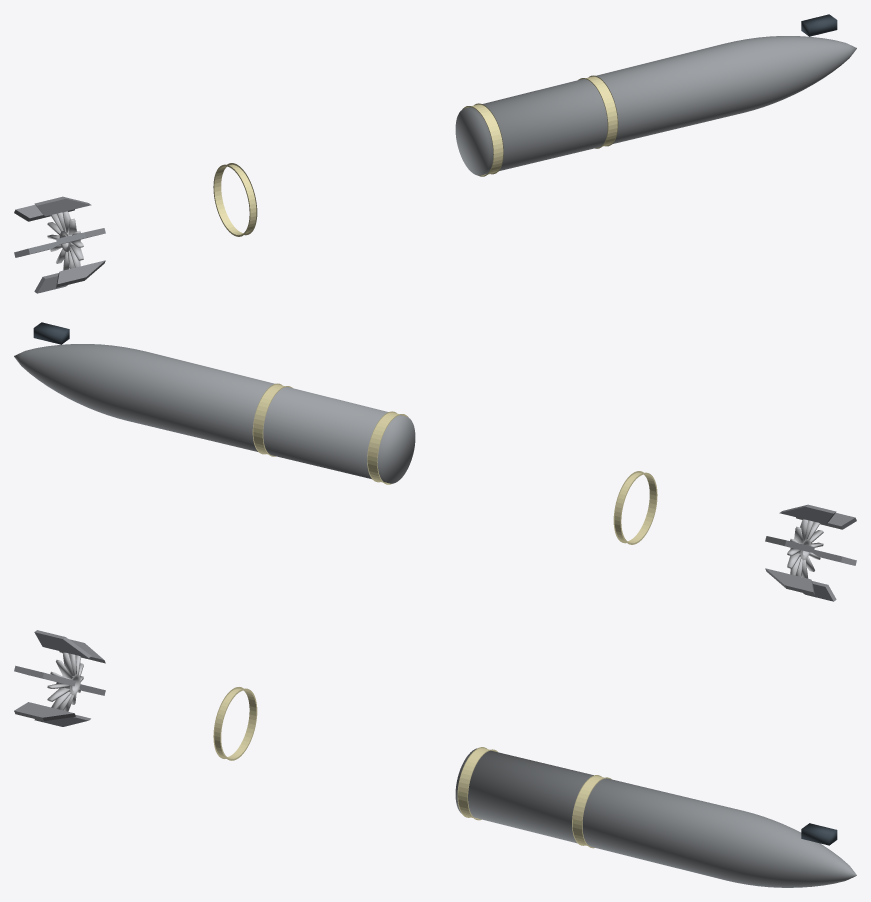
File: RU_TORP_SAET60_LOD0.fbx
The picture shows the model from 3 angles, top to bottom: view 1: azimuth 30°, elevation 25°; view 2: azimuth 150°, elevation 25°; view 3: azimuth 330°, elevation 25°; orthographic projection.
Parts seen in each view (by area): view 1: WPN_RU_TORP_SAET60_LOD0_Body, WPN_RU_TORP_SAET60_LOD0_Marking, WPN_RU_TORP_SAET60_LOD0_Fins, WPN_RU_TORP_SAET60_LOD0_Propulsor, WPN_RU_TORP_SAET60_LOD0_Seeker; view 2: WPN_RU_TORP_SAET60_LOD0_Body, WPN_RU_TORP_SAET60_LOD0_Marking, WPN_RU_TORP_SAET60_LOD0_Fins, WPN_RU_TORP_SAET60_LOD0_Propulsor, WPN_RU_TORP_SAET60_LOD0_Seeker; view 3: WPN_RU_TORP_SAET60_LOD0_Body, WPN_RU_TORP_SAET60_LOD0_Marking, WPN_RU_TORP_SAET60_LOD0_Fins, WPN_RU_TORP_SAET60_LOD0_Propulsor, WPN_RU_TORP_SAET60_LOD0_Seeker.
Part boxes in pixels (bbox=[...]): WPN_RU_TORP_SAET60_LOD0_Body: bbox=[455, 36, 856, 175]; WPN_RU_TORP_SAET60_LOD0_Marking: bbox=[213, 75, 618, 236]; WPN_RU_TORP_SAET60_LOD0_Fins: bbox=[14, 196, 105, 293]; WPN_RU_TORP_SAET60_LOD0_Propulsor: bbox=[47, 211, 83, 270]; WPN_RU_TORP_SAET60_LOD0_Seeker: bbox=[801, 14, 837, 36]; WPN_RU_TORP_SAET60_LOD0_Body: bbox=[14, 344, 415, 483]; WPN_RU_TORP_SAET60_LOD0_Marking: bbox=[252, 383, 657, 544]; WPN_RU_TORP_SAET60_LOD0_Fins: bbox=[765, 504, 856, 601]; WPN_RU_TORP_SAET60_LOD0_Propulsor: bbox=[787, 519, 823, 578]; WPN_RU_TORP_SAET60_LOD0_Seeker: bbox=[33, 322, 69, 344]; WPN_RU_TORP_SAET60_LOD0_Body: bbox=[455, 748, 856, 887]; WPN_RU_TORP_SAET60_LOD0_Marking: bbox=[213, 687, 611, 848]; WPN_RU_TORP_SAET60_LOD0_Fins: bbox=[14, 630, 105, 726]; WPN_RU_TORP_SAET60_LOD0_Propulsor: bbox=[47, 652, 83, 711]; WPN_RU_TORP_SAET60_LOD0_Seeker: bbox=[801, 823, 837, 845].
Bounding box in the file's own units: 7.03 × 0.6447 × 0.7199.
